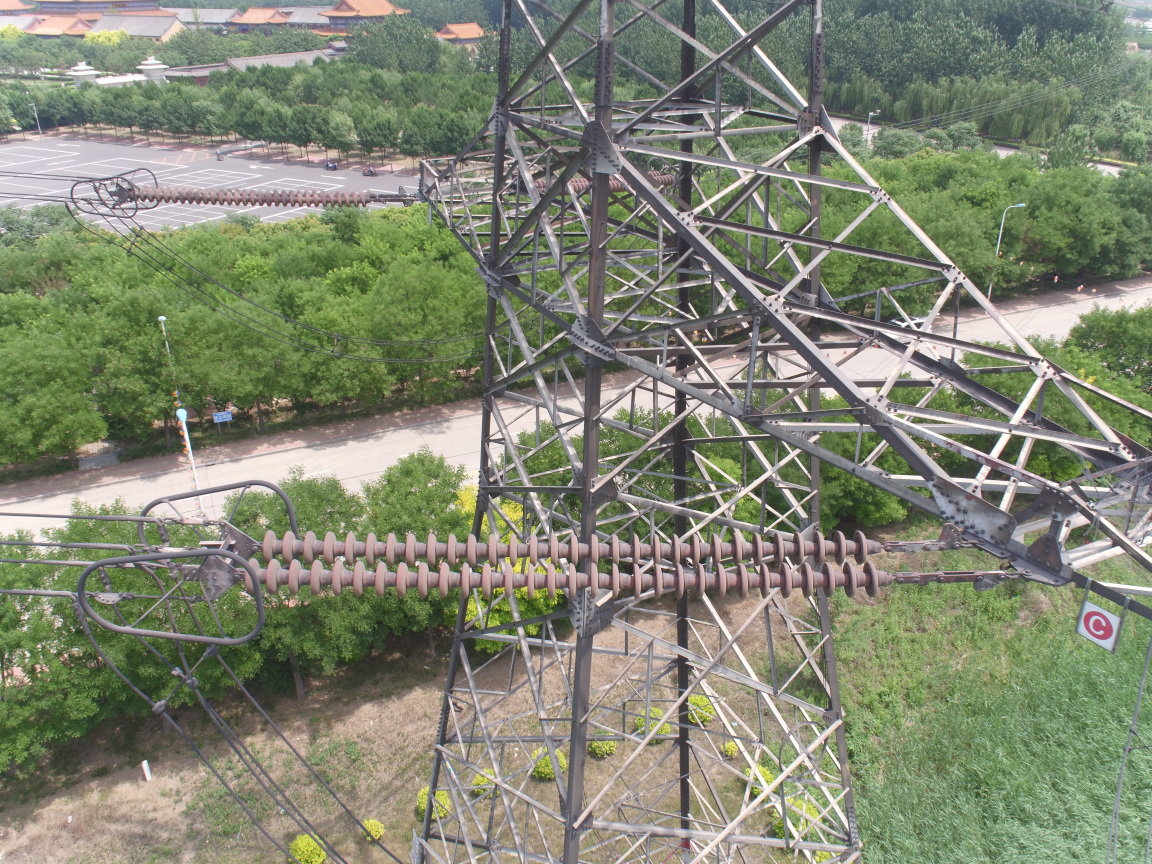insulator: (230, 527, 918, 599), (125, 186, 380, 208)
